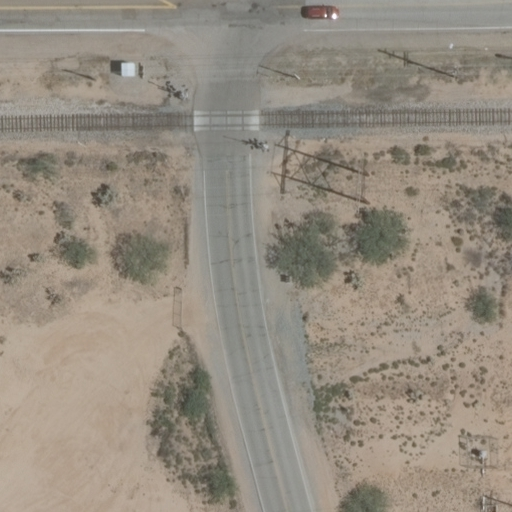DT: (375, 51, 459, 81)
TT: (271, 133, 371, 202)
